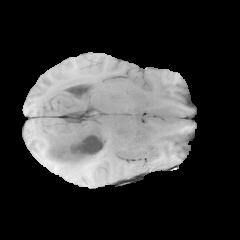glioma: (42, 130, 106, 171)
